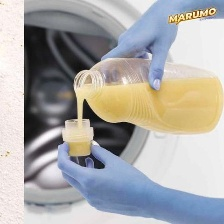cleaning_solution: (69, 53, 224, 138)
